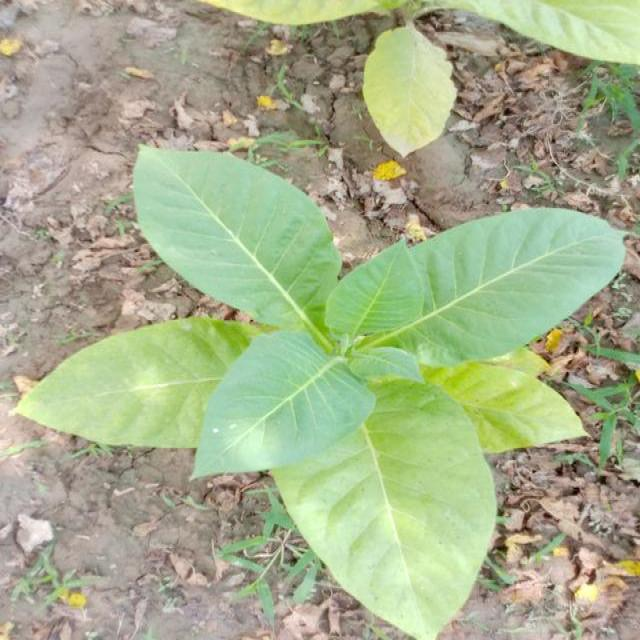crop: (68, 160, 602, 622), (207, 0, 639, 120)
